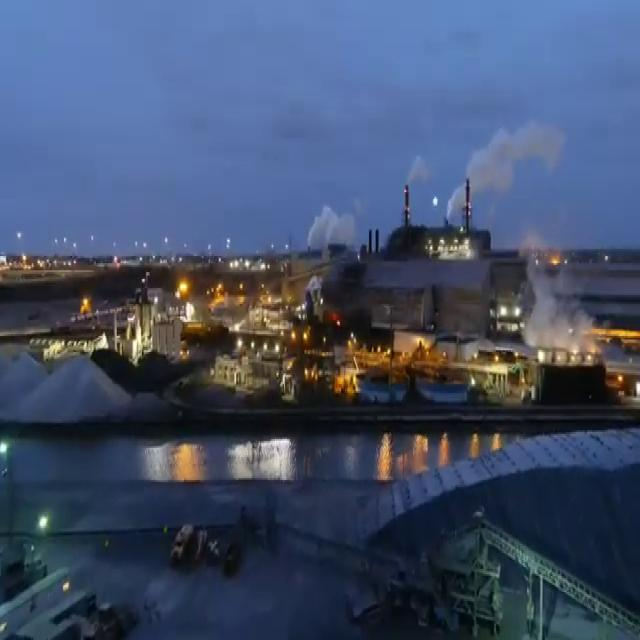smoke: (444, 117, 565, 235), (524, 247, 600, 368), (305, 187, 368, 290), (403, 151, 432, 222)
